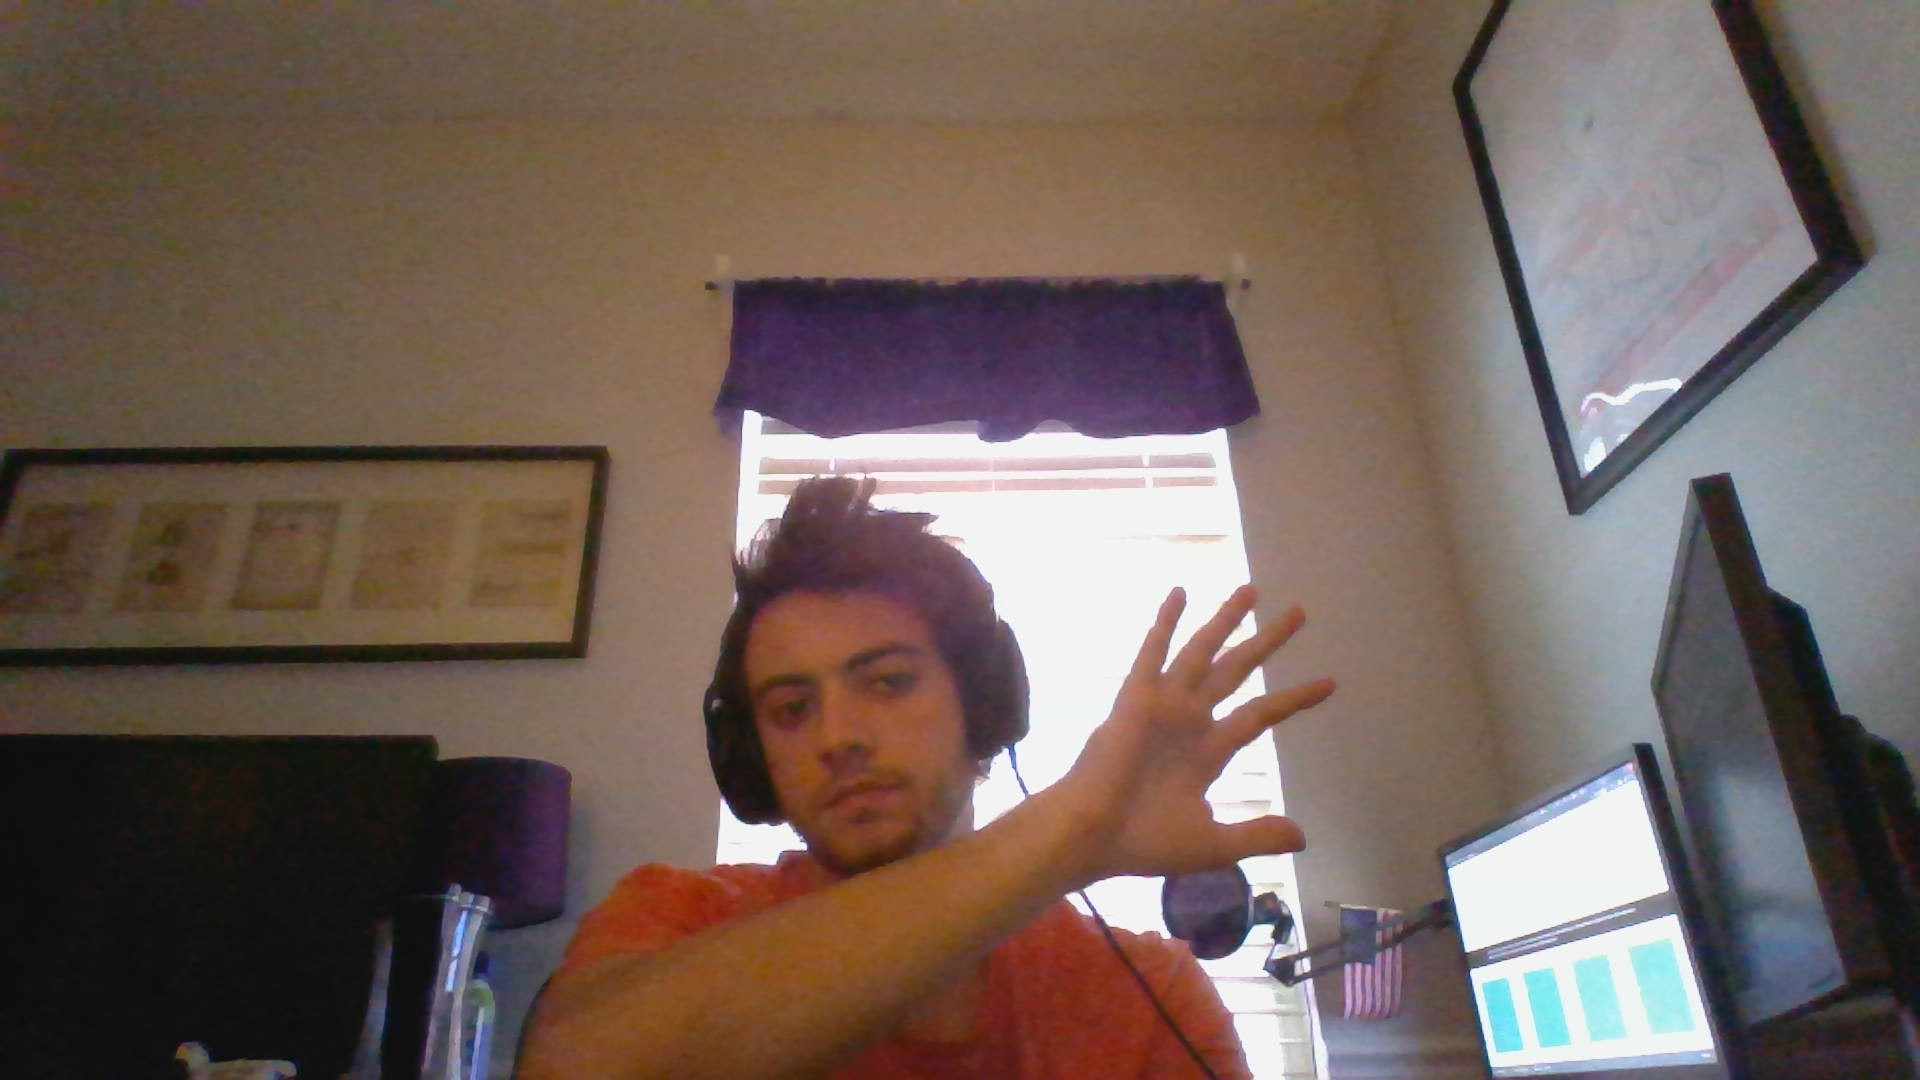Right Palm Up: (1069, 578, 1338, 887)
